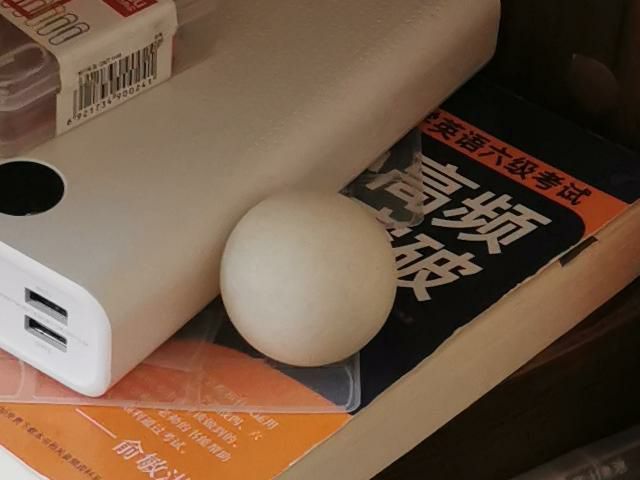ball: (220, 189, 396, 367)
